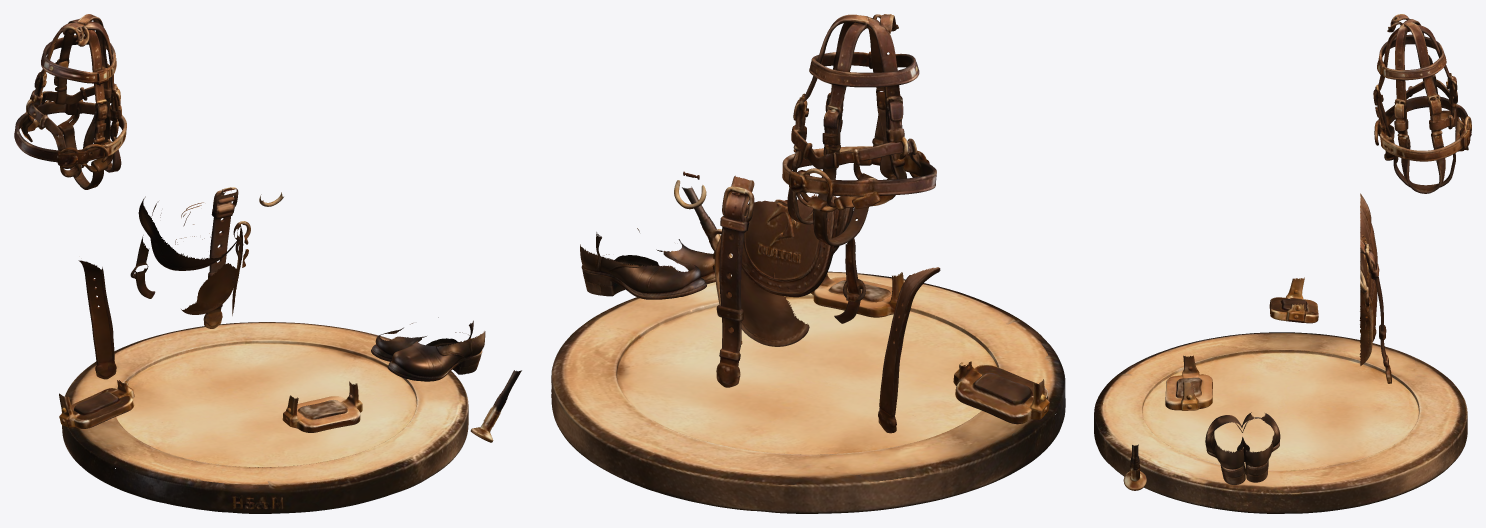
Rendered from boots.glb.
The picture shows the model from 3 angles, left to right: view 1: azimuth 30°, elevation 25°; view 2: azimuth 150°, elevation 25°; view 3: azimuth 270°, elevation 25°; orthographic projection. The views are drawn at different scales.
Visible parts, largest first — view 1: boots; view 2: boots; view 3: boots.
Boxes of the visible parts, x1,y1,x2,y2 form: boots: [14, 14, 521, 513]; boots: [551, 14, 1065, 513]; boots: [1094, 14, 1471, 513].
Size of the model in its own units: 0.8499 by 0.8116 by 0.7694.
1 material, 1 textured.
